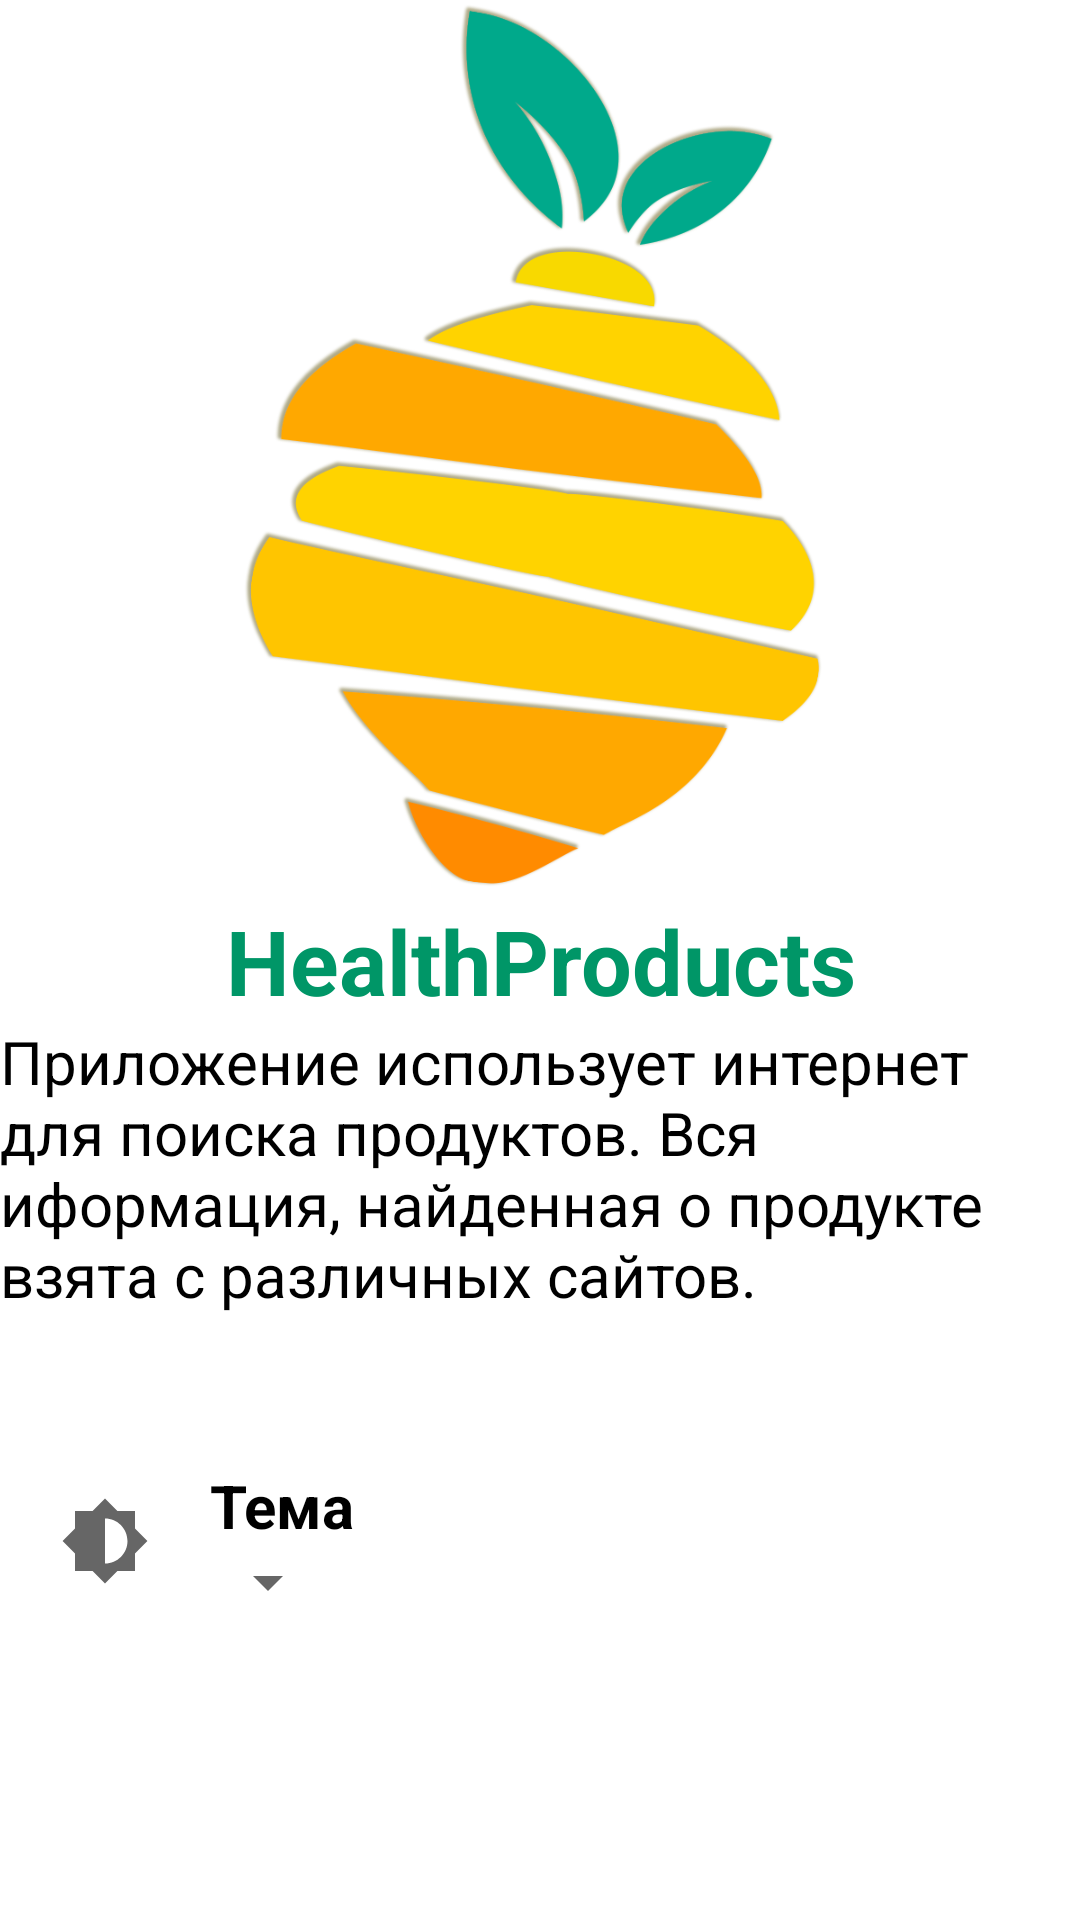

Icons on this 1080*1920 Android screen, each with its box as box=[x1, y1, x2, y2]:
brightness medium: box=[63, 1499, 147, 1583]
